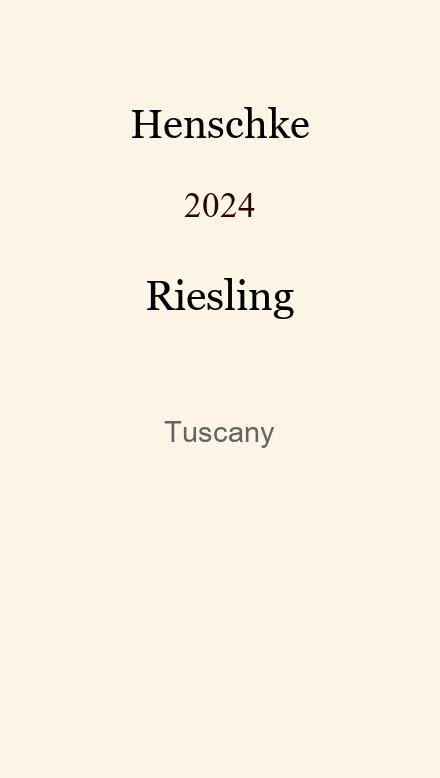brand: (130, 100, 310, 131)
region: (164, 415, 275, 442)
variety: (145, 271, 294, 312)
vintage: (184, 185, 256, 209)
